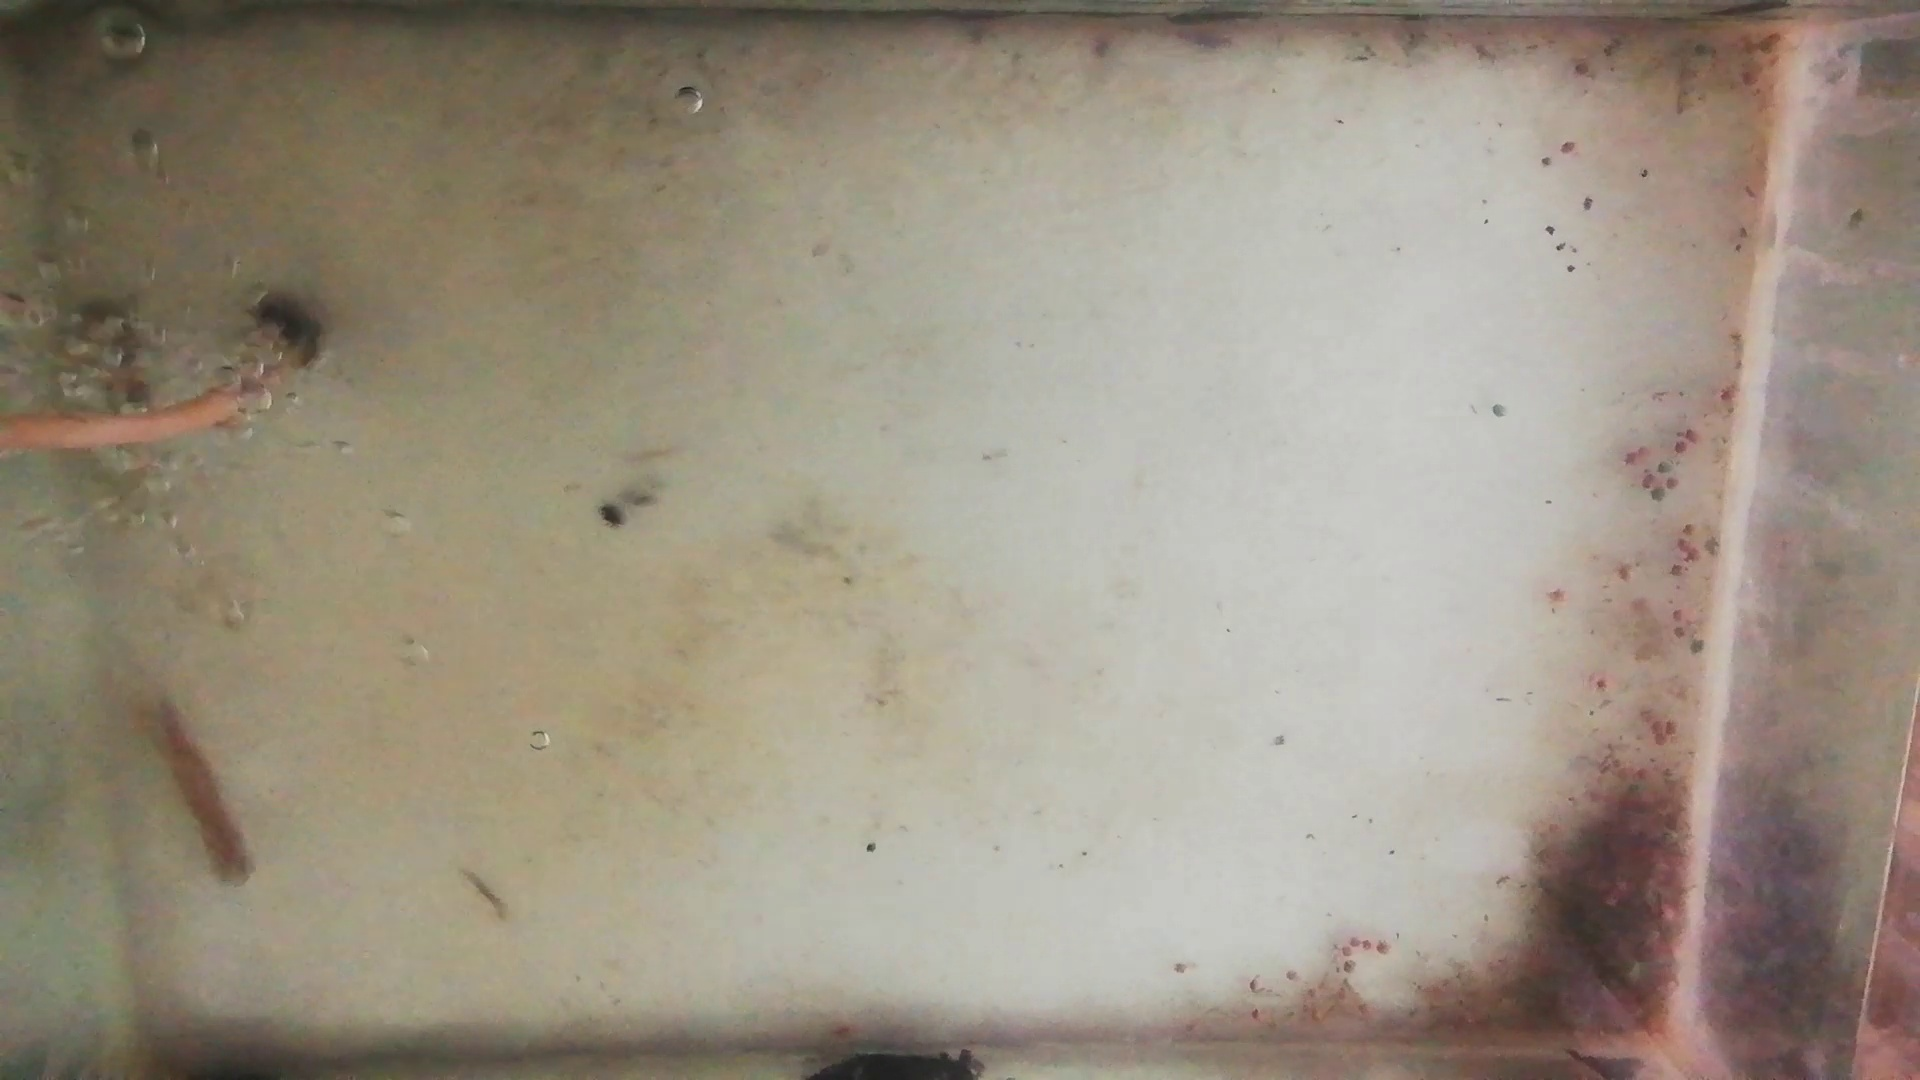fish: (138, 694, 260, 889), (63, 298, 150, 421)
